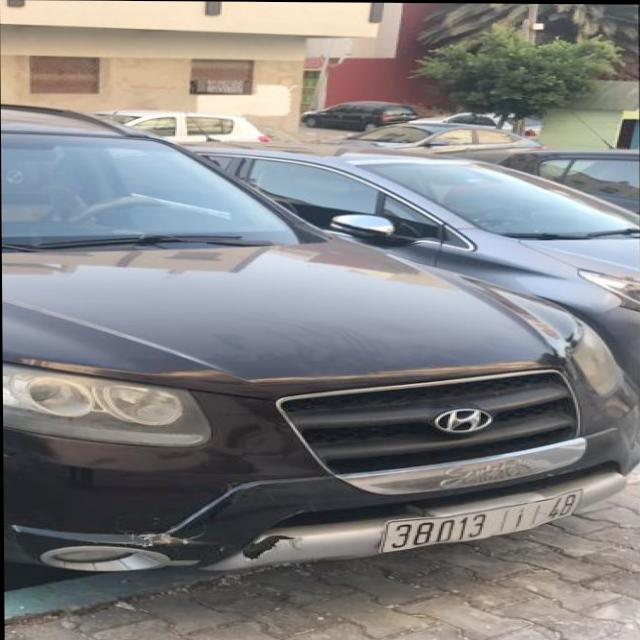License-Plate: (381, 490, 581, 550)
